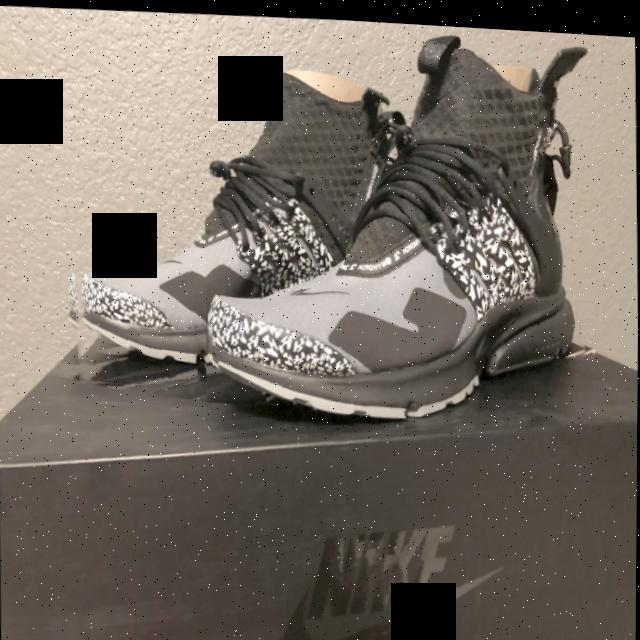shoe: (200, 10, 596, 444), (57, 41, 415, 398)
